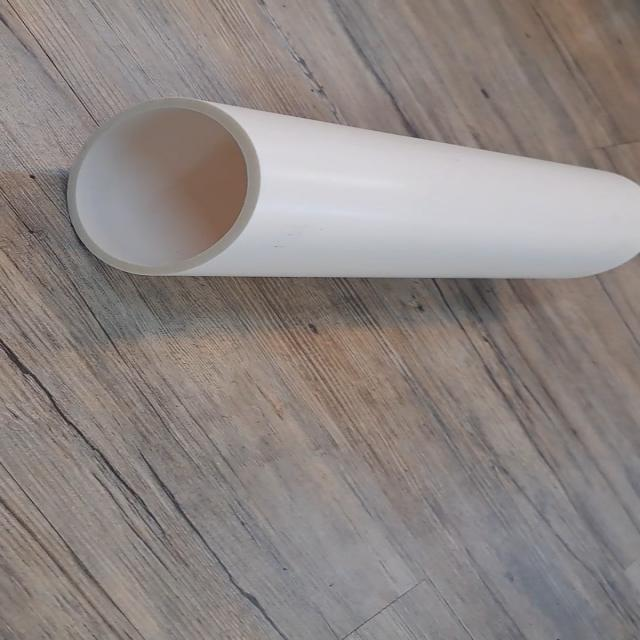CORAL: (54, 92, 640, 288)
